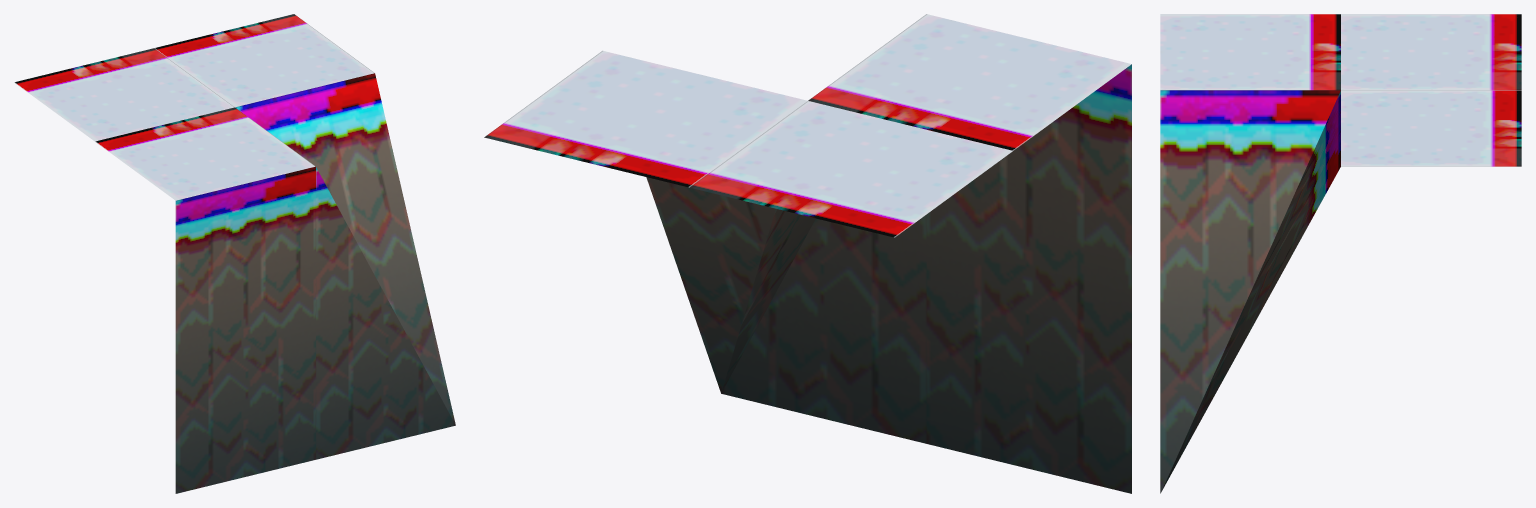
The model's file is arch_winter_wall_cornerInCap_B.FBX.
3 views of the same model, side by side, from view 1: azimuth 30°, elevation 25°; view 2: azimuth 150°, elevation 25°; view 3: azimuth 270°, elevation 25° (orthographic). The views are drawn at different scales.
Visible parts, largest first — view 1: arch_winter_wall_cornerInCap_B; view 2: arch_winter_wall_cornerInCap_B; view 3: arch_winter_wall_cornerInCap_B.
Part boxes in pixels (left/top/right/bottom): arch_winter_wall_cornerInCap_B: left=14, top=14, right=455, bottom=493; arch_winter_wall_cornerInCap_B: left=484, top=14, right=1131, bottom=493; arch_winter_wall_cornerInCap_B: left=1160, top=14, right=1521, bottom=493.
Bounding box in the file's own units: 4 × 4 × 4.
1 material, 1 textured.
